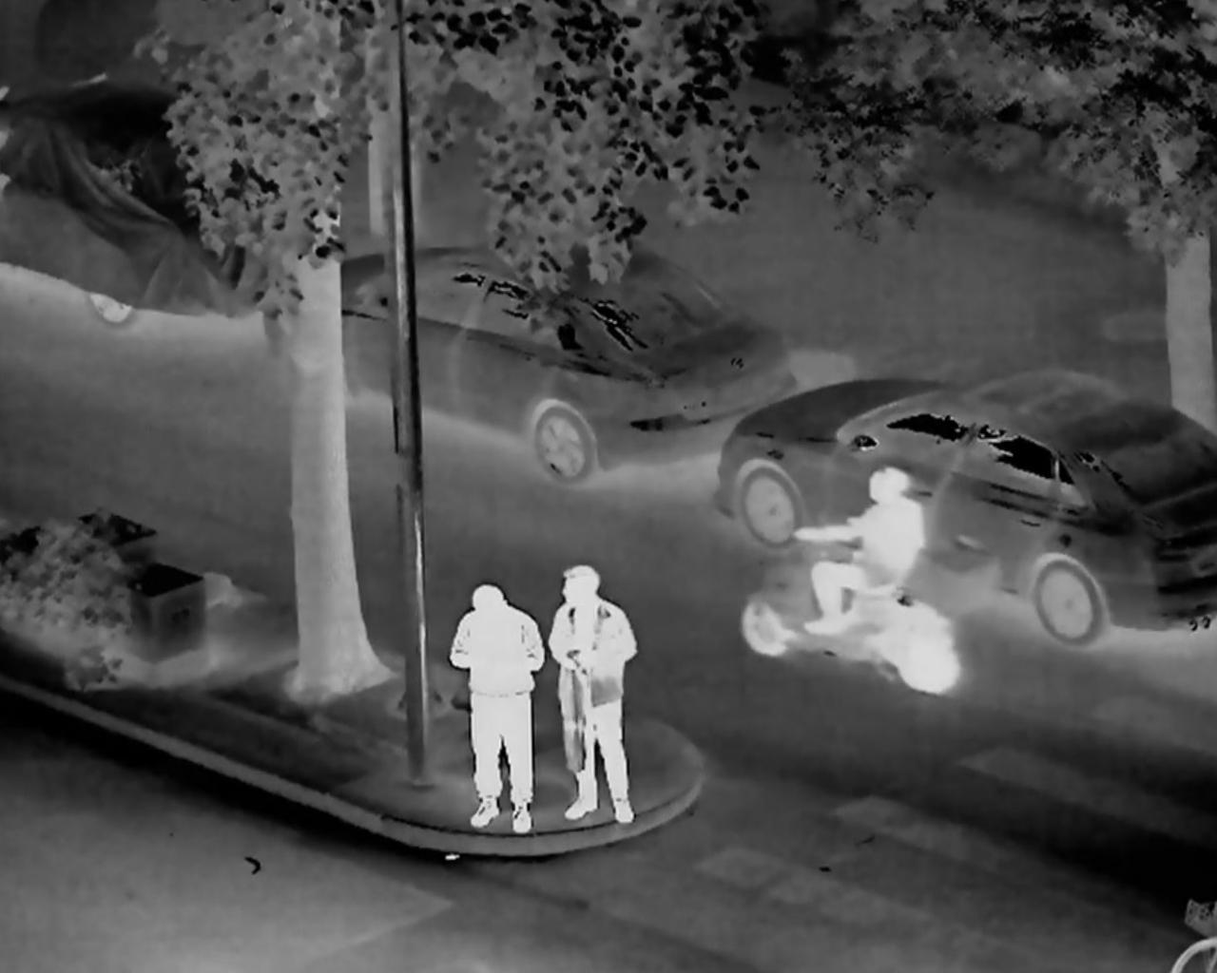person: (454, 569, 557, 855), (547, 560, 652, 832), (802, 456, 922, 641)
